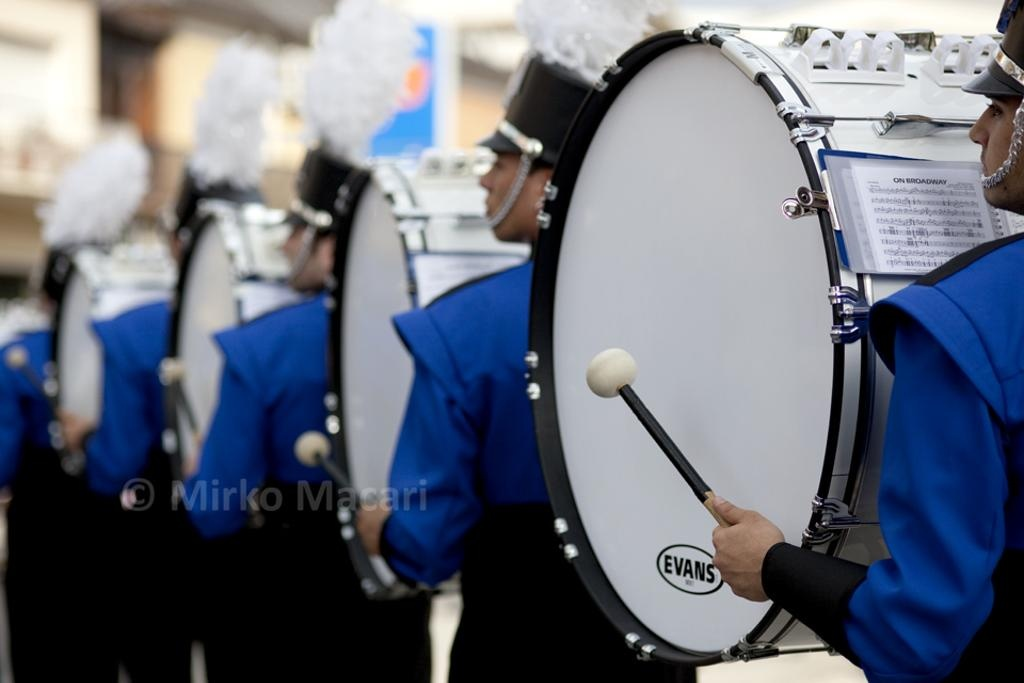human_face: (478, 132, 556, 241), (970, 66, 1024, 204), (281, 213, 333, 288)
